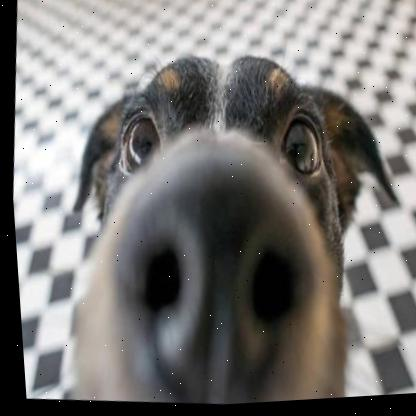dog: (30, 26, 416, 414)
